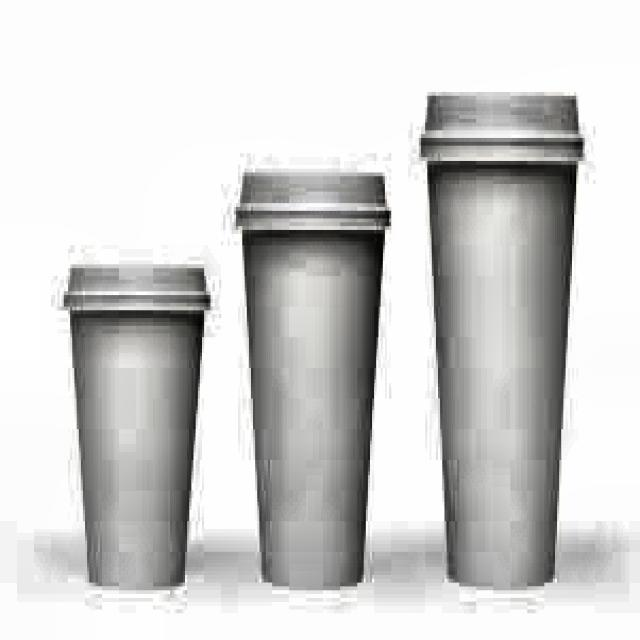Cup: (421, 120, 582, 610), (232, 193, 388, 595), (60, 285, 213, 604)
